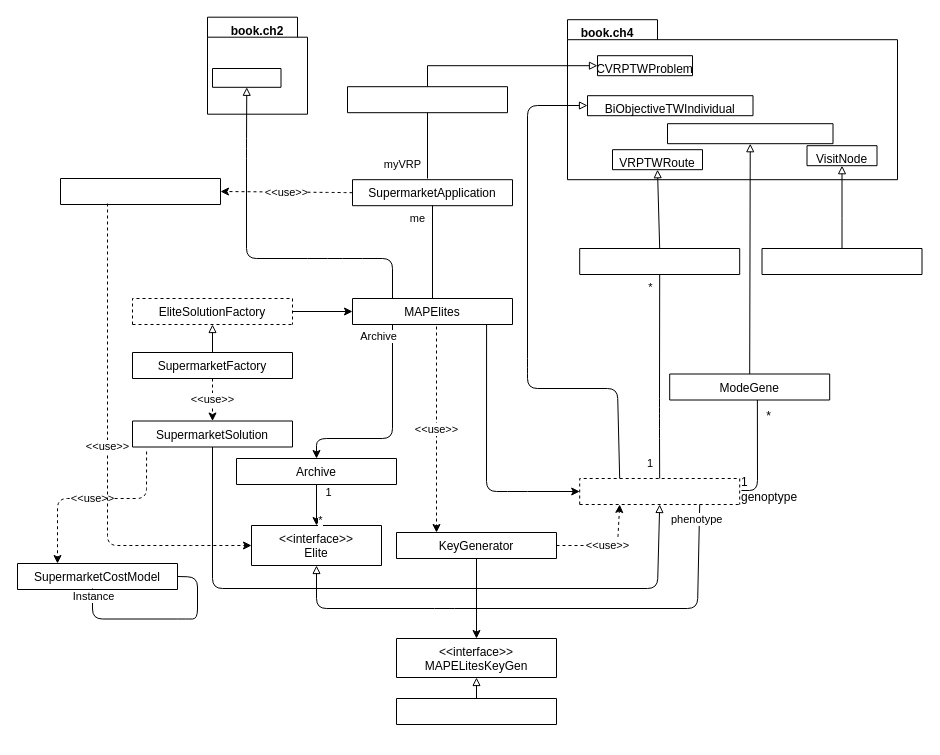
This 940x755 diagram has some shape labels left out. The centre of each missing label's shape, as x and y in pixels:
"BiObjectiveTWIndividual.Gene" goes at point (749, 133).
"EliteSolution" goes at point (659, 491).
"ReloadNode" goes at point (841, 261).
"SeedingEA" goes at point (140, 191).
"SMDPKeyGenerator" goes at point (476, 711).
"SupermarketProblem" goes at point (427, 99).
"VRPSolver" goes at point (246, 77).
"VRPTWModalRoute" goes at point (659, 261).
